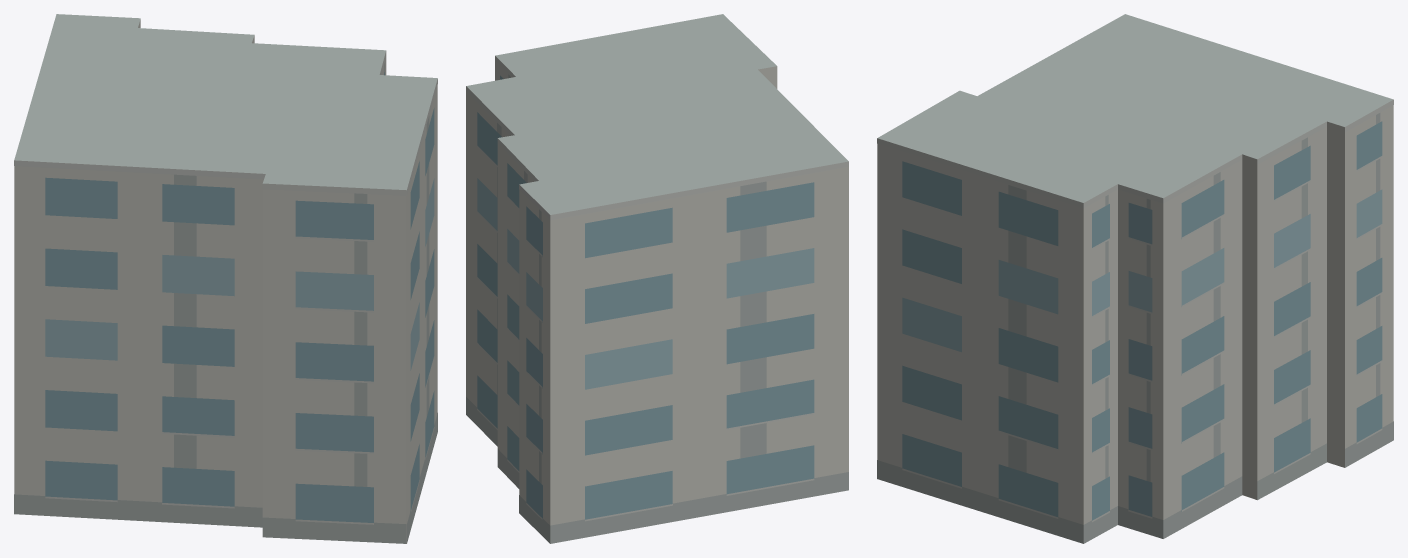
Rendered from survey-upis-32761595.glb.
The picture shows the model from 3 angles, left to right: view 1: azimuth 30°, elevation 25°; view 2: azimuth 150°, elevation 25°; view 3: azimuth 270°, elevation 25°; orthographic projection. The views are drawn at different scales.
Visible parts, largest first — view 1: survey-upis-32761595.tmp; view 2: survey-upis-32761595.tmp; view 3: survey-upis-32761595.tmp.
Boxes of the visible parts, x1,y1,x2,y2 form: survey-upis-32761595.tmp: (14,14,437,543); survey-upis-32761595.tmp: (466,14,848,543); survey-upis-32761595.tmp: (877,14,1393,543).
Size of the model in its own units: 18.15 by 15.25 by 20.96.
